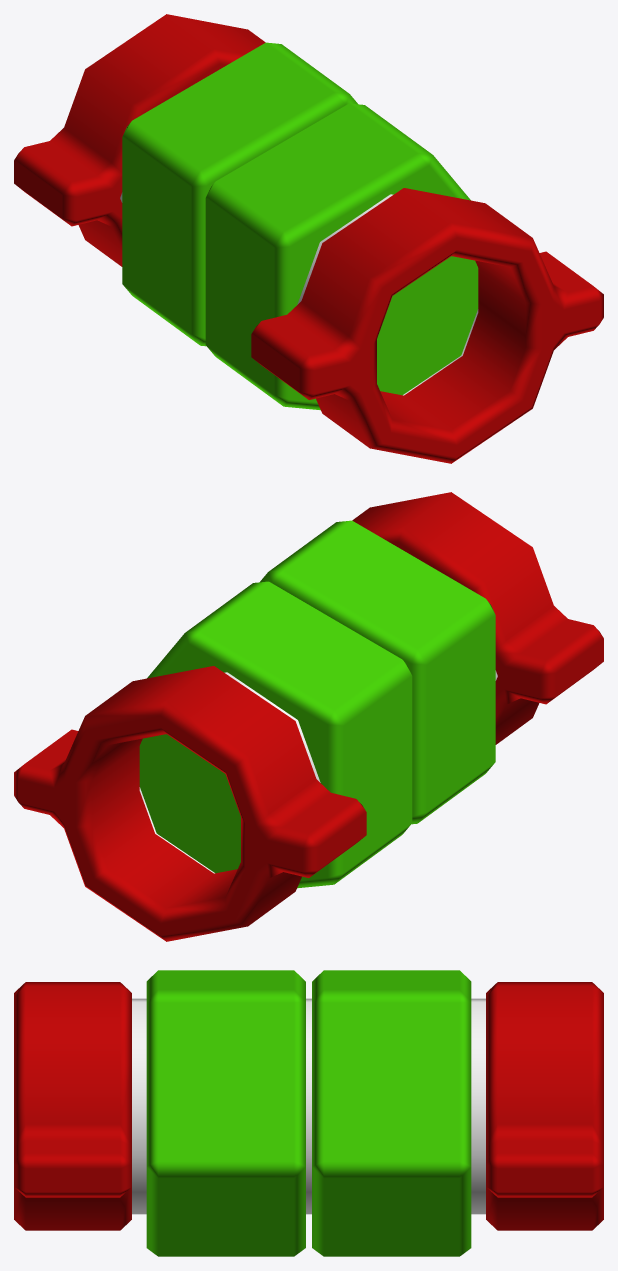
Rendered from Pipe01Fitting02c.fbx.
3 renders of one model, top to bottom at view 1: azimuth 30°, elevation 25°; view 2: azimuth 150°, elevation 25°; view 3: azimuth 270°, elevation 25°, orthographic.
Visible parts, largest first — view 1: Pipe01Fitting02c; view 2: Pipe01Fitting02c; view 3: Pipe01Fitting02c.
Boxes of the visible parts, x1,y1,x2,y2 form: Pipe01Fitting02c: [14, 14, 603, 463]; Pipe01Fitting02c: [14, 492, 603, 941]; Pipe01Fitting02c: [14, 970, 603, 1256].
Size of the model in its own units: 4.45 by 3.71 by 7.5.
